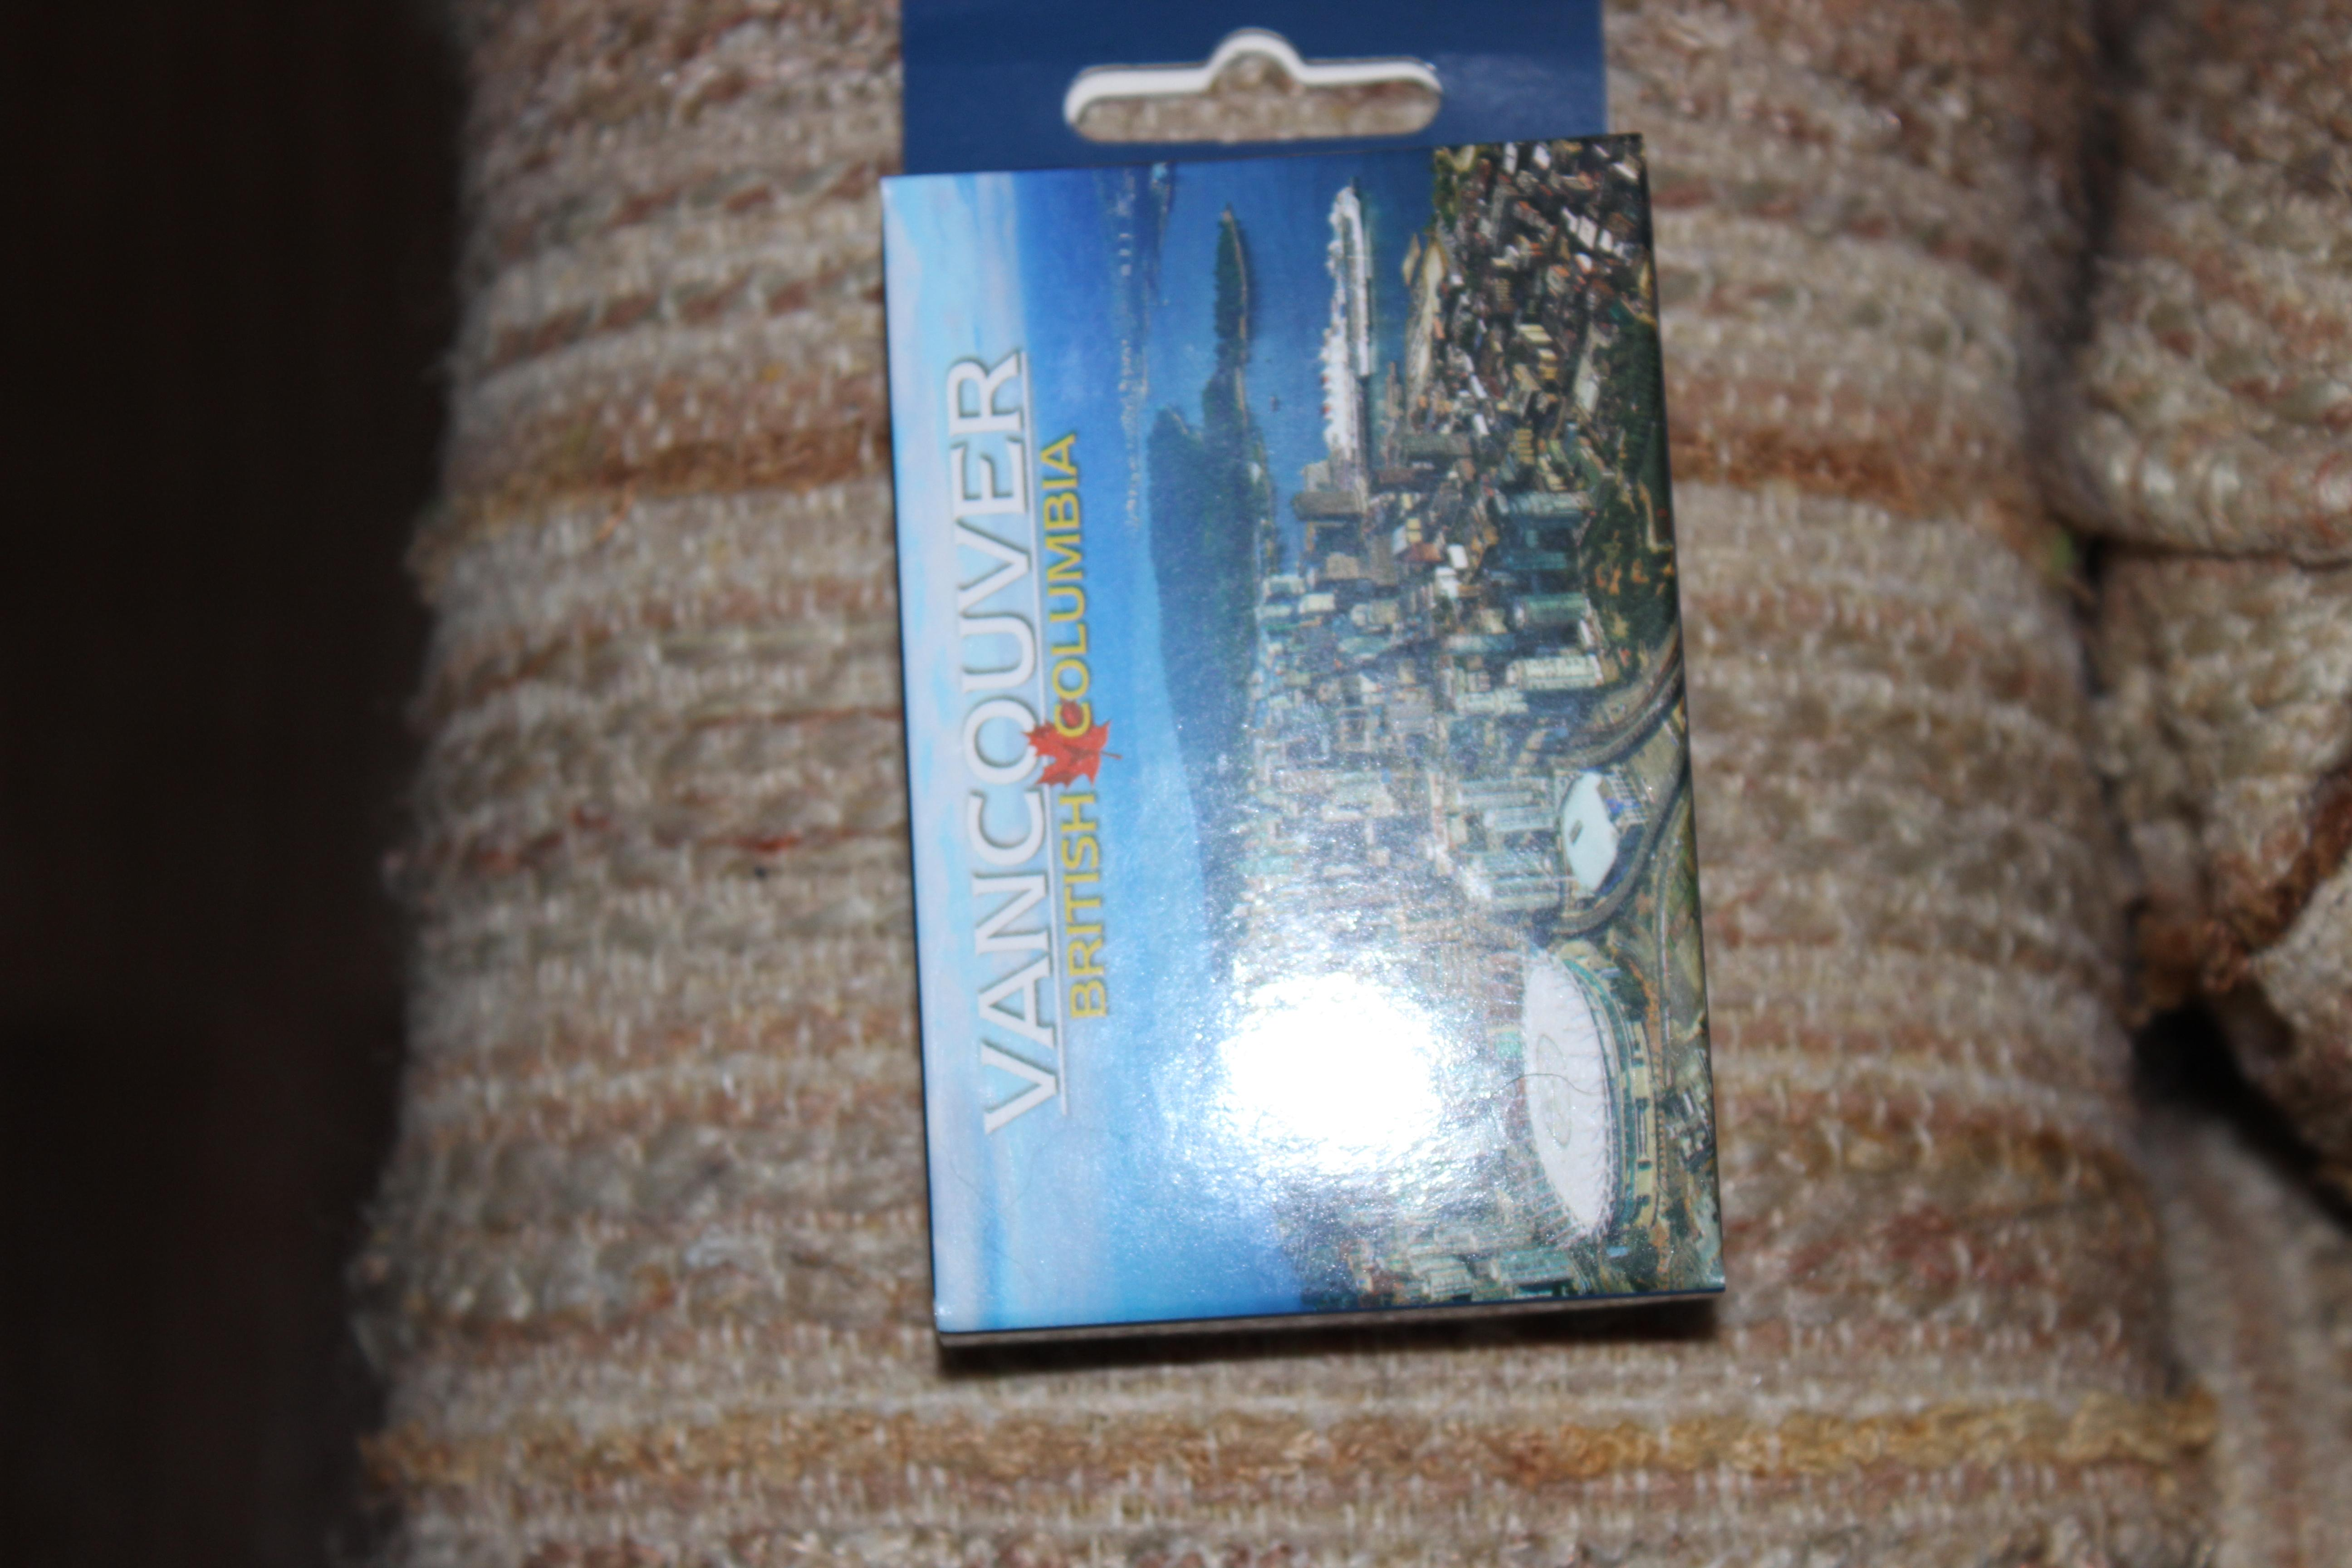vancouverCards: (837, 2, 1771, 1424)
